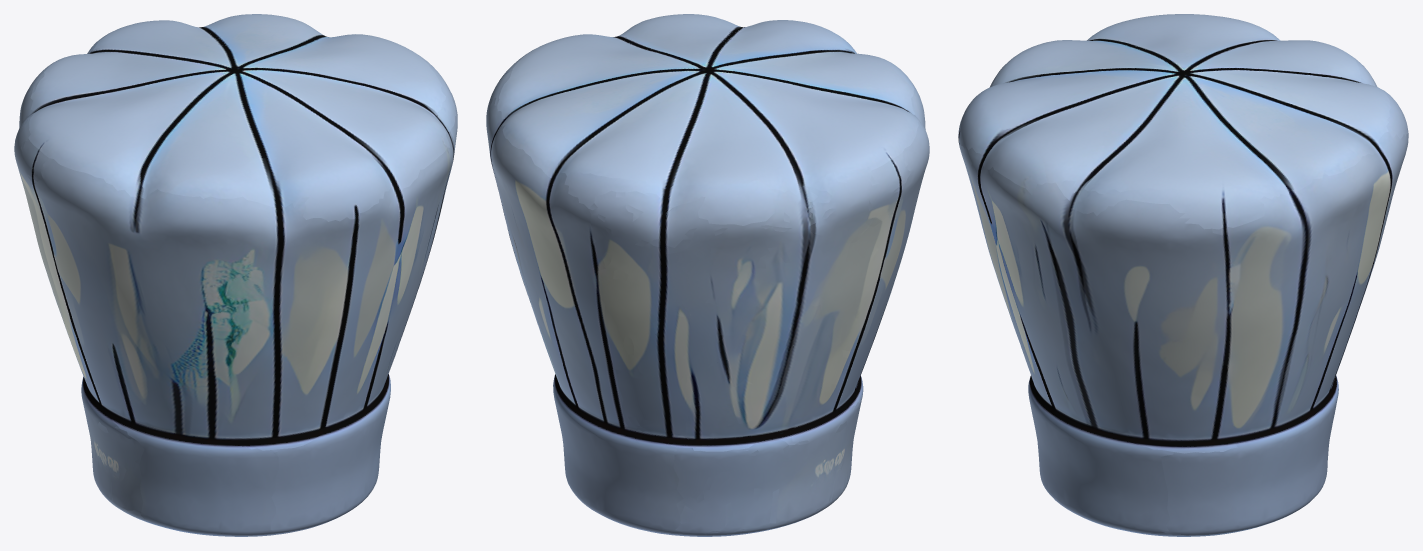
Rendered from item_chef_hat.glb.
The picture shows the model from 3 angles, left to right: view 1: azimuth 30°, elevation 25°; view 2: azimuth 150°, elevation 25°; view 3: azimuth 270°, elevation 25°; orthographic projection.
Visible parts, largest first — view 1: tmp3cu33hzb.ply; view 2: tmp3cu33hzb.ply; view 3: tmp3cu33hzb.ply.
Boxes of the visible parts, x1,y1,x2,y2 form: tmp3cu33hzb.ply: (14,14,457,536); tmp3cu33hzb.ply: (486,14,929,536); tmp3cu33hzb.ply: (958,14,1408,536).
Size of the model in its own units: 1.99 by 1.99 by 1.97.
Materials: 1 (1 with a texture image).
